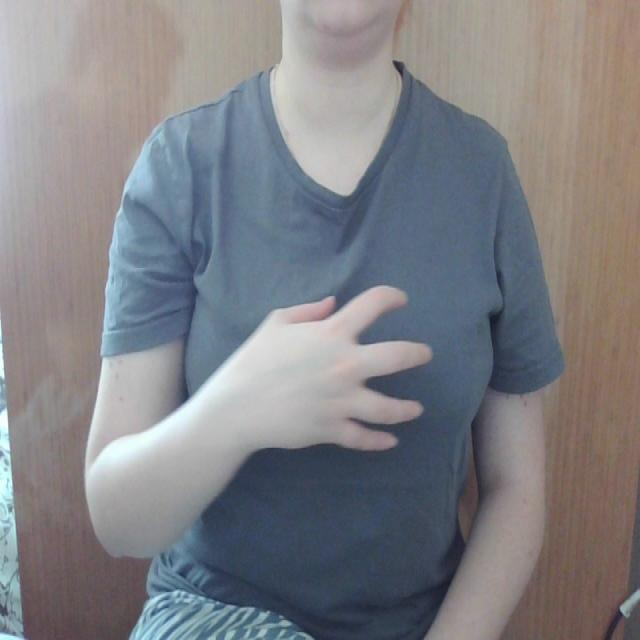Anne: (182, 275, 510, 468)
